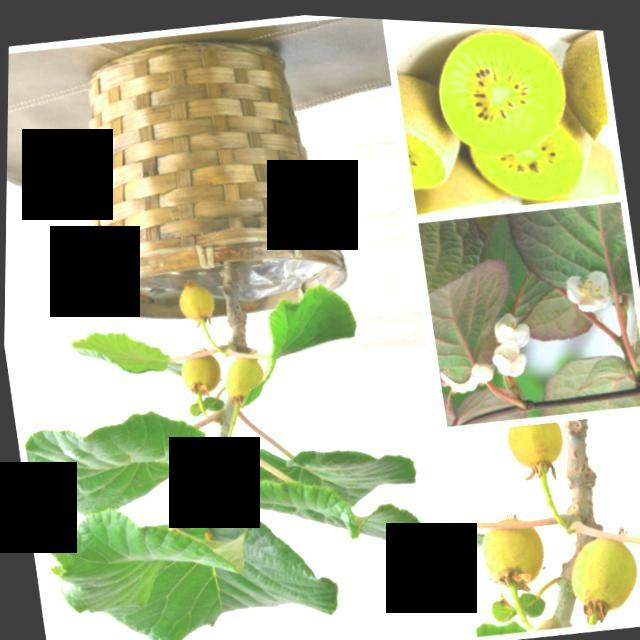kiwi: (563, 522, 640, 615), (477, 512, 546, 588), (505, 417, 566, 473), (221, 353, 267, 404), (179, 348, 223, 399), (177, 280, 216, 328)
